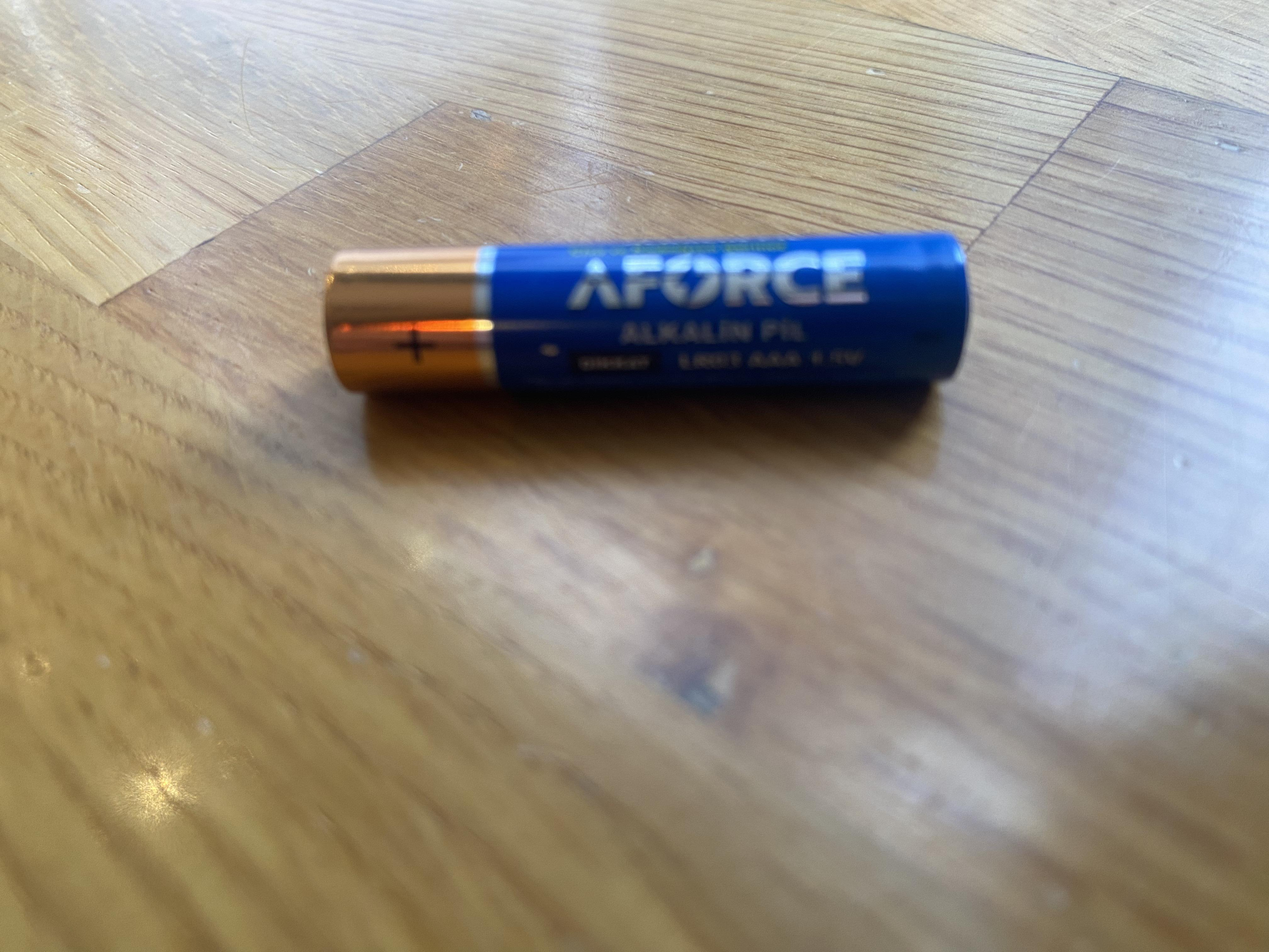AAA: (314, 221, 976, 407)
